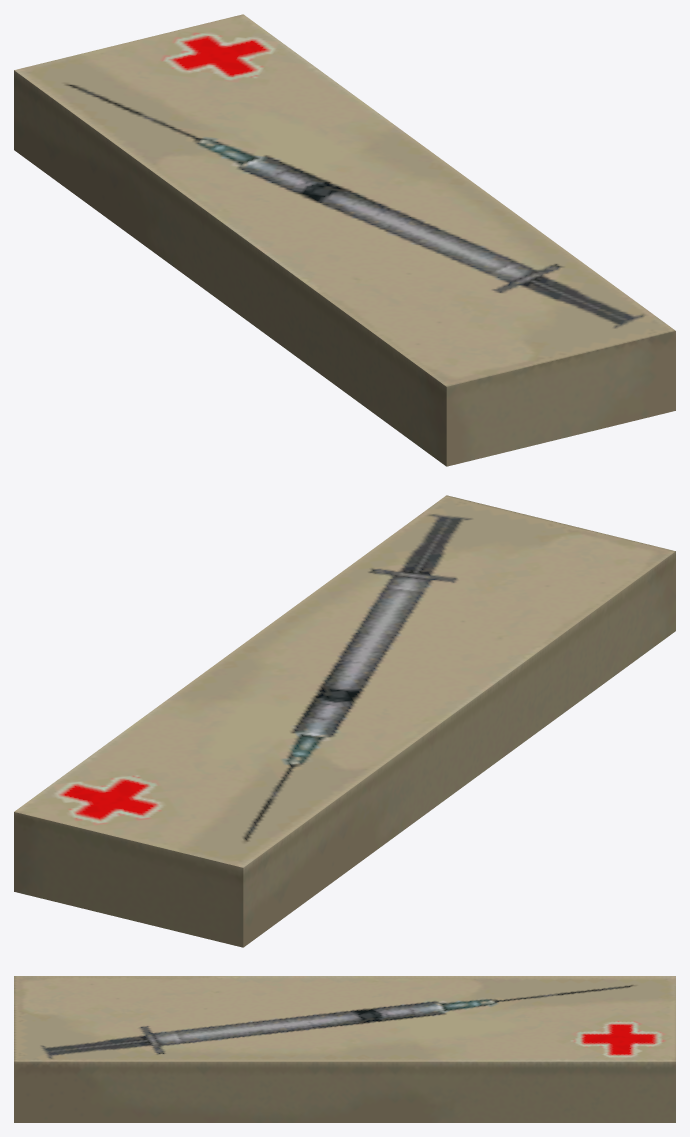
Rendered from Pickup_Adrenaline1.glb.
3 renders of one model, top to bottom at view 1: azimuth 30°, elevation 25°; view 2: azimuth 150°, elevation 25°; view 3: azimuth 270°, elevation 25°, orthographic. The views are drawn at different scales.
Visible parts, largest first — view 1: pk_Adrenaline_1; view 2: pk_Adrenaline_1; view 3: pk_Adrenaline_1.
Boxes of the visible parts, bbox=[...] form: pk_Adrenaline_1: bbox=[14, 14, 675, 466]; pk_Adrenaline_1: bbox=[14, 495, 675, 947]; pk_Adrenaline_1: bbox=[14, 976, 675, 1122].
Bounding box in the file's own units: 0.0772 × 0.0257 × 0.2523.
1 material, 1 textured.
